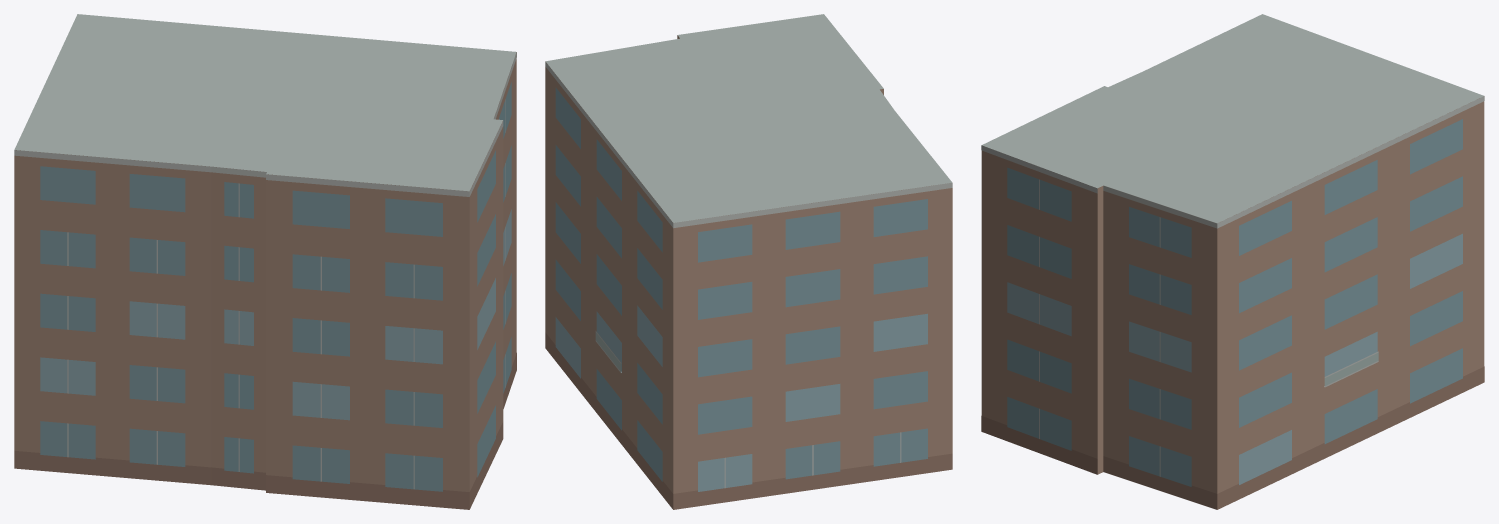
The model's file is survey-upis-32661532.glb.
3 views of the same model, side by side, from view 1: azimuth 30°, elevation 25°; view 2: azimuth 150°, elevation 25°; view 3: azimuth 270°, elevation 25° (orthographic). The views are drawn at different scales.
Parts seen in each view (by area): view 1: survey-upis-32661532.tmp; view 2: survey-upis-32661532.tmp; view 3: survey-upis-32661532.tmp.
Part boxes in pixels (x1,y1,x2,y2): survey-upis-32661532.tmp: (14,14,516,509); survey-upis-32661532.tmp: (545,14,952,509); survey-upis-32661532.tmp: (981,14,1484,509).
Bounding box in the file's own units: 21.17 × 13.5 × 21.49.
